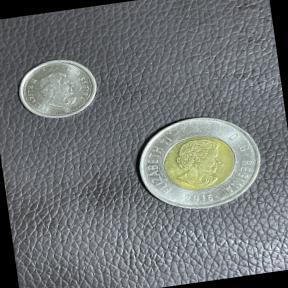coin: (121, 105, 273, 224), (7, 50, 107, 129)
